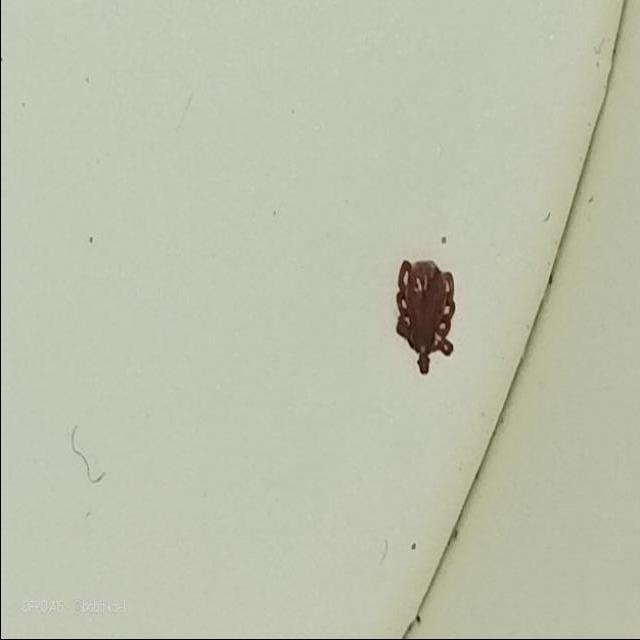Rhipicephalus Sanguineus-M: (394, 261, 457, 379)
